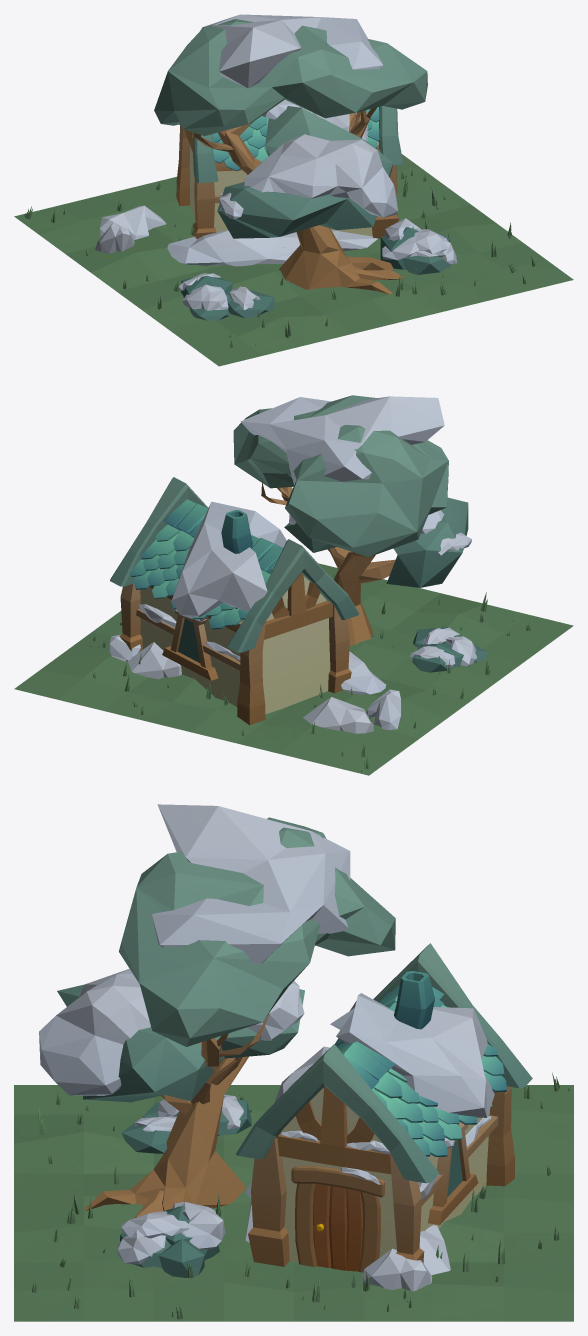
File: house_snow.glb
The picture shows the model from 3 angles, top to bottom: view 1: azimuth 30°, elevation 25°; view 2: azimuth 150°, elevation 25°; view 3: azimuth 270°, elevation 25°; orthographic projection. The views are drawn at different scales.
Parts seen in each view (by area): view 1: Plane.000, Arbol1.002, Arbol1.063, Arbol1.049, Icosphere.002, Circle.001, Icosphere.001, Cube.000, Arbol1.048, Circle.002, Arbol1.062, Cube.001 (+5 smaller); view 2: Plane.000, Arbol1.002, Arbol1.063, Cube.000, Arbol1.056, Circle.002, Cube.002, Cube.007, Cube.001, Cube.004, Cube.010, Cube.006 (+9 smaller); view 3: Plane.000, Arbol1.002, Arbol1.063, Arbol1.056, Cube.001, Cube.008, Circle.002, Cube.000, Cube.015, Cube.011, Cube.002, Cube.007 (+17 smaller).
Boxes of the visible parts, x1=… form: Plane.000: x1=14, y1=154, x2=573, y2=366; Arbol1.002: x1=154, y1=19, x2=427, y2=294; Arbol1.063: x1=200, y1=14, x2=397, y2=217; Arbol1.049: x1=167, y1=230, x2=377, y2=266; Icosphere.002: x1=181, y1=275, x2=274, y2=320; Circle.001: x1=212, y1=107, x2=379, y2=171; Icosphere.001: x1=380, y1=227, x2=450, y2=274; Cube.000: x1=189, y1=142, x2=378, y2=236; Arbol1.048: x1=99, y1=205, x2=166, y2=239; Circle.002: x1=193, y1=177, x2=216, y2=238; Arbol1.062: x1=382, y1=229, x2=447, y2=260; Cube.001: x1=378, y1=106, x2=403, y2=165; Plane.000: x1=14, y1=563, x2=573, y2=775; Arbol1.002: x1=233, y1=395, x2=468, y2=645; Arbol1.063: x1=240, y1=396, x2=444, y2=533; Cube.000: x1=140, y1=576, x2=330, y2=714; Arbol1.056: x1=172, y1=501, x2=286, y2=621; Circle.002: x1=130, y1=524, x2=351, y2=693; Cube.002: x1=227, y1=539, x2=359, y2=652; Cube.007: x1=136, y1=608, x2=240, y2=680; Cube.001: x1=110, y1=477, x2=208, y2=586; Cube.004: x1=264, y1=573, x2=332, y2=639; Cube.010: x1=237, y1=621, x2=265, y2=725; Cube.006: x1=164, y1=499, x2=283, y2=573; Plane.000: x1=14, y1=1085, x2=573, y2=1321; Arbol1.002: x1=57, y1=817, x2=395, y2=1218; Arbol1.063: x1=39, y1=804, x2=350, y2=1095; Arbol1.056: x1=330, y1=993, x2=494, y2=1117; Cube.001: x1=236, y1=1044, x2=439, y2=1183; Cube.008: x1=277, y1=1087, x2=391, y2=1174; Circle.002: x1=372, y1=1004, x2=507, y2=1156; Cube.000: x1=281, y1=1088, x2=489, y2=1262; Cube.015: x1=291, y1=1166, x2=384, y2=1272; Cube.011: x1=248, y1=1137, x2=289, y2=1266; Cube.002: x1=335, y1=943, x2=532, y2=1088; Cube.007: x1=421, y1=1115, x2=498, y2=1224.
Bounding box in the file's own units: 10 × 7.27 × 10.
Materials: 4 (4 with a texture image).
